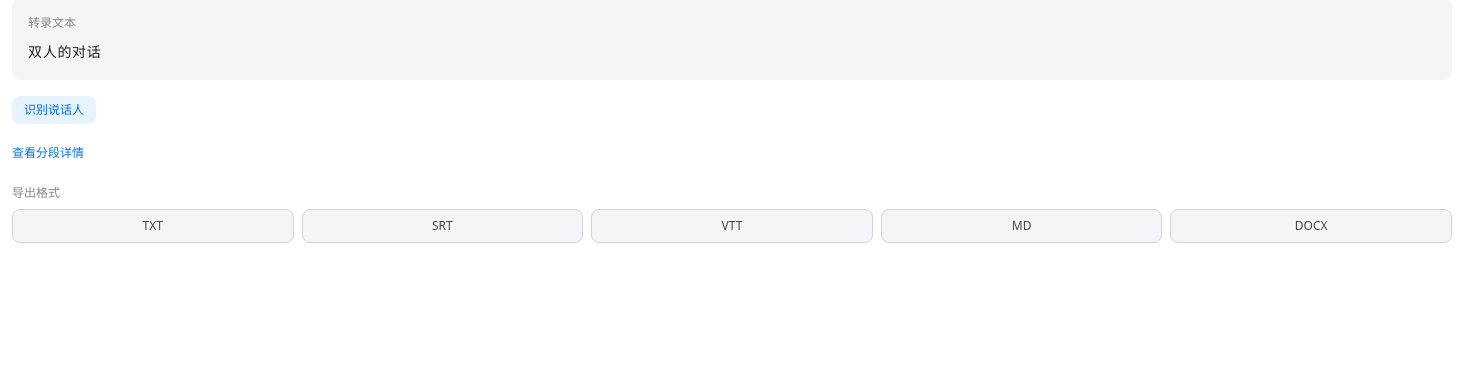
it: TranscriptionResult — speaker diarization › renders speaker-colored segments after a successful diarization
This screenshot has width=1464, height=381.
Click the button "识别说话人": x=54, y=110 x1=12 y1=96 x2=96 y2=124
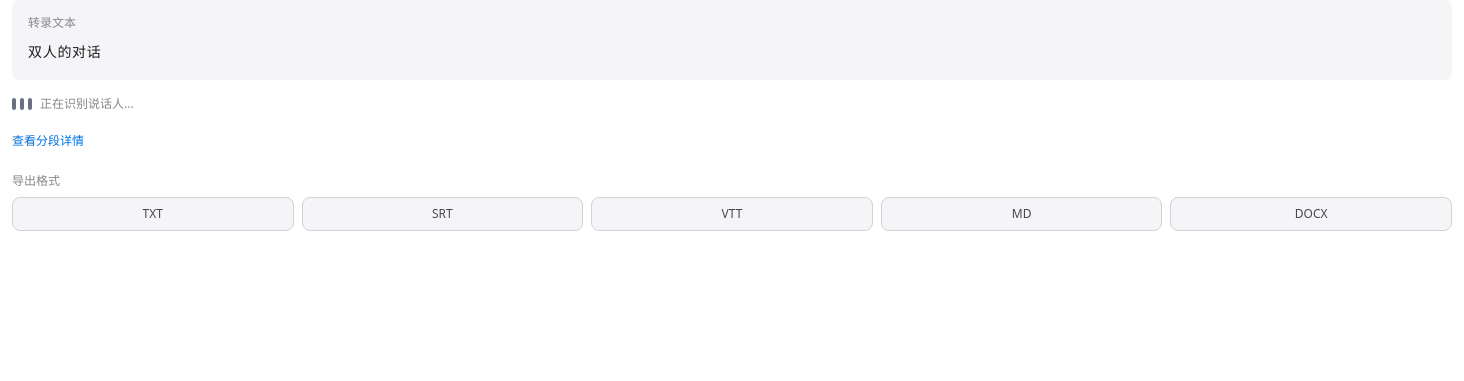
Speaker labels render inside the expandable segment timeline.
Click the button "查看分段详情": x=48, y=141 x1=12 y1=133 x2=84 y2=149
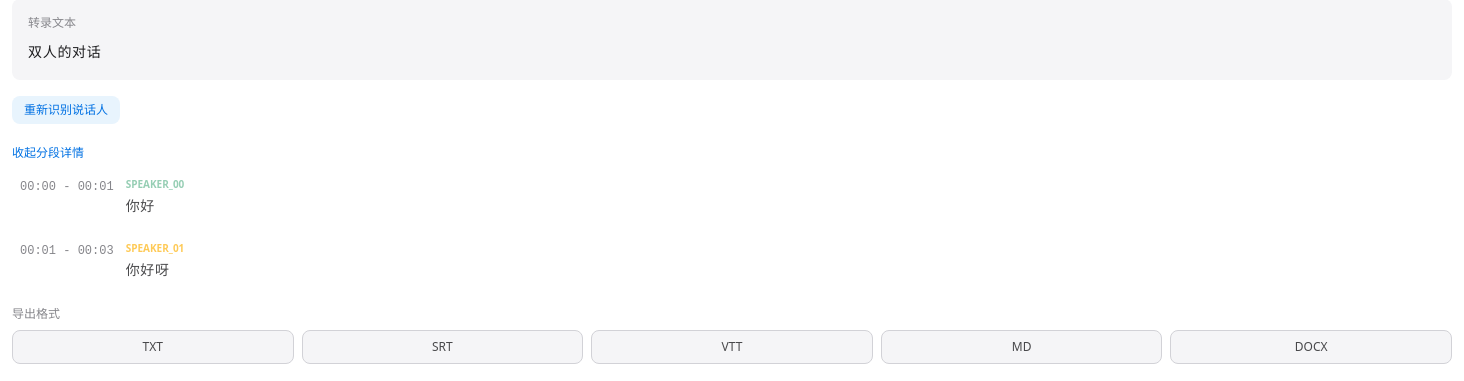
Check: the text "SPEAKER_00" is shown, box x1=126 y1=177 x2=184 y2=192
Check: the text "SPEAKER_01" is shown, box x1=126 y1=241 x2=184 y2=255
Check: the button "重新识别说话人" is shown, box x1=12 y1=96 x2=120 y2=124
